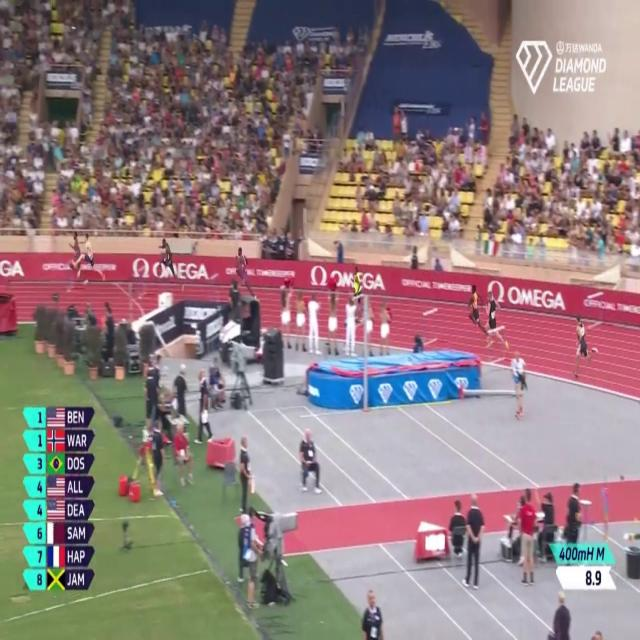athlete: (572, 307, 598, 382), (232, 240, 261, 301), (70, 231, 104, 280), (158, 231, 184, 289), (465, 281, 489, 341), (486, 287, 506, 353), (348, 257, 366, 311), (66, 225, 80, 278)
hurdle: (582, 287, 606, 333), (484, 326, 510, 361), (420, 306, 441, 348), (133, 260, 150, 304)
